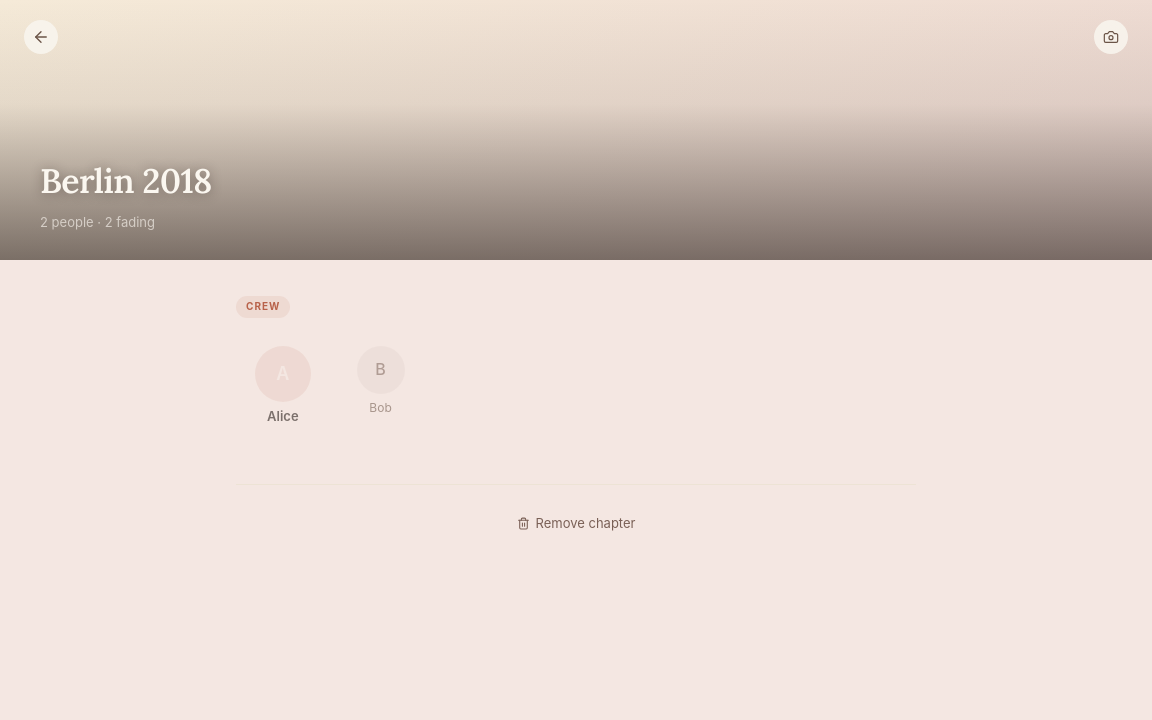
Test: ChapterDetailScreen — chapter removal (MAV-184) › opens the confirmation dialog when "Remove chapter" is clicked
Click the button "Remove chapter": [576, 523] box [504,509,648,537]
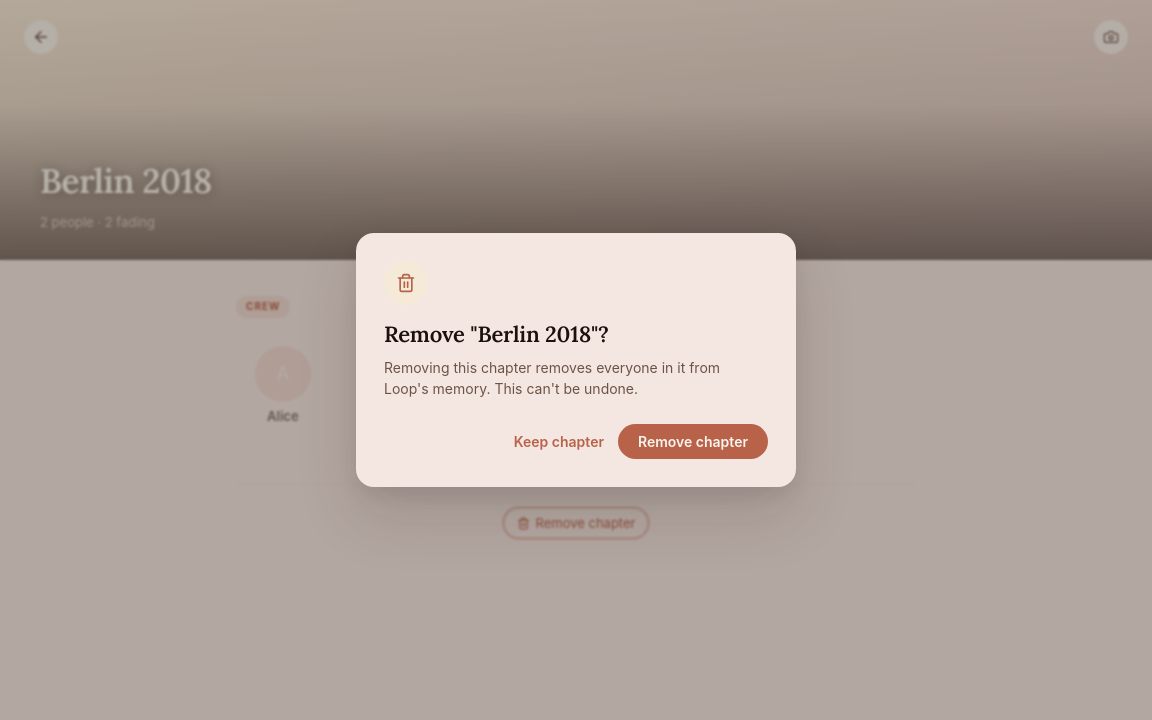
Now the dialog is shown, box [356,233,796,487]
Now the text "Removing this chapter removes everyone in it" is shown, box [384,359,720,397]
